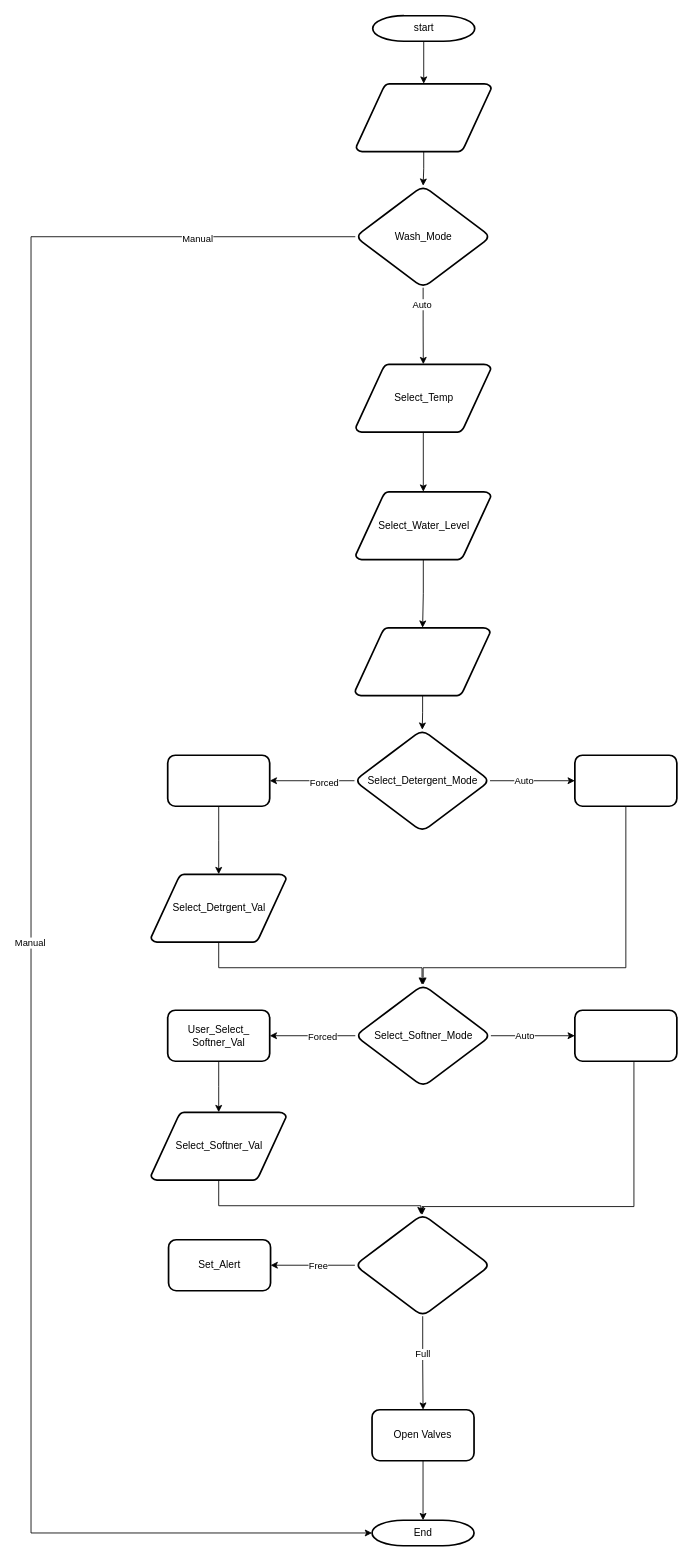
Image size: 693x1561. Some labels were removed from this diagram. Here are the shapes that lost their labels. From the top down, the centre of each, then its label:
At (x=423, y=117): "Select_Wash_Mode".
At (x=422, y=661): "Select_Dirt_Level".
At (x=218, y=780): "User_Select_ Detergent_Val".
At (x=625, y=780): "Calc_Detergent_Val".
At (x=625, y=1035): "Calc_Softner_Val".
At (x=422, y=1265): "Check DL && SL && DF Sensors".
